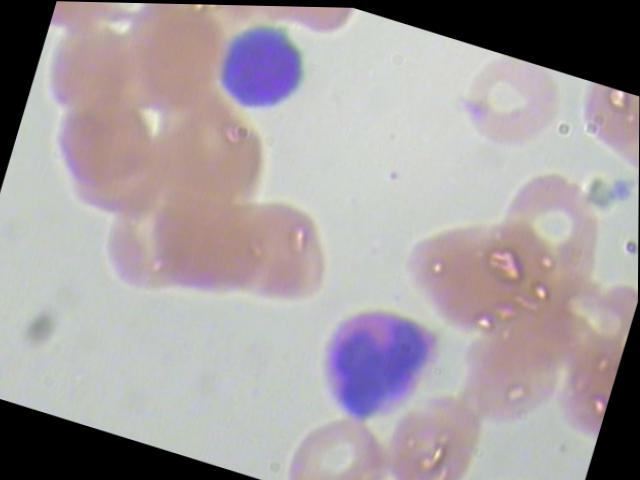Red Blood Cells: (483, 153, 622, 304), (438, 306, 579, 443), (210, 178, 350, 315), (40, 79, 169, 202), (84, 187, 213, 310), (28, 7, 155, 131), (445, 42, 579, 158), (361, 384, 503, 479), (269, 398, 404, 479), (64, 1, 194, 50)
White Blood Cells: (297, 284, 456, 441), (204, 11, 322, 127)
